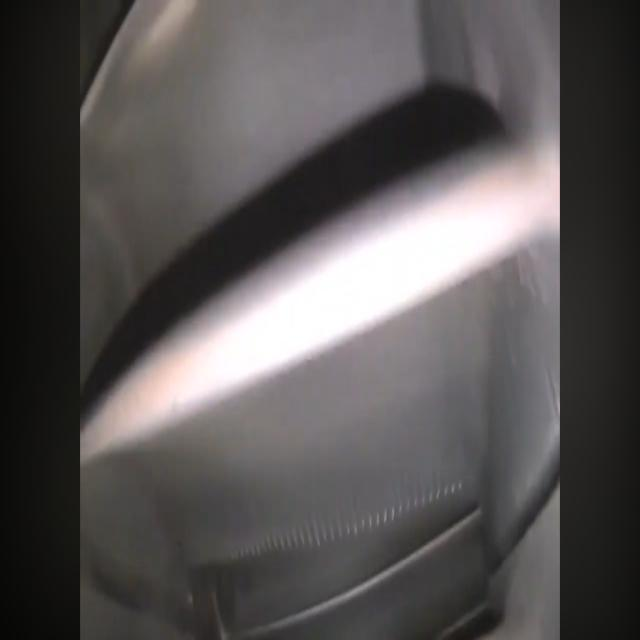turbine_blade: (80, 133, 555, 568), (80, 1, 427, 300)
